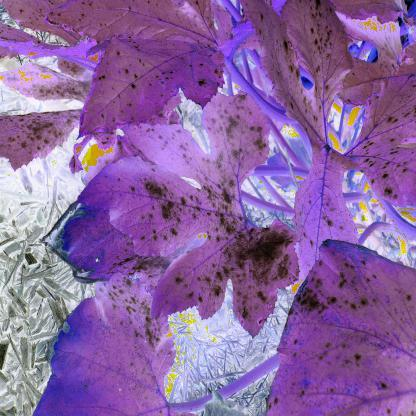Squash Powdery mildew leaf: (111, 88, 299, 336), (0, 0, 230, 135), (265, 235, 402, 416), (78, 271, 170, 416), (344, 70, 416, 192), (279, 0, 357, 108)
